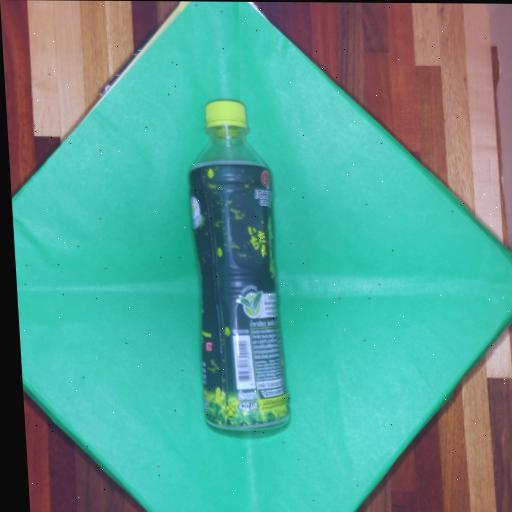bottle: (190, 101, 289, 429)
